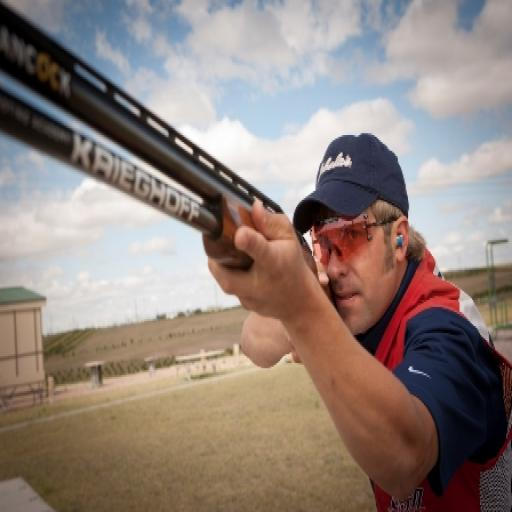shooting: (203, 130, 511, 510)
